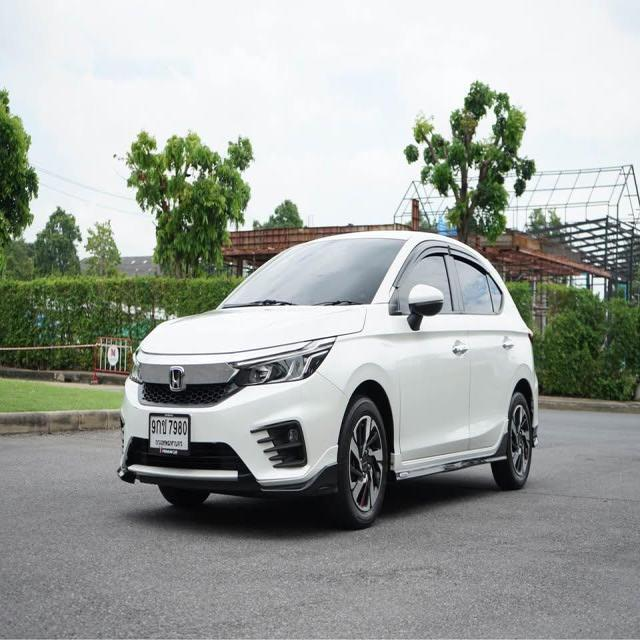Hatchback: (117, 230, 541, 531)
